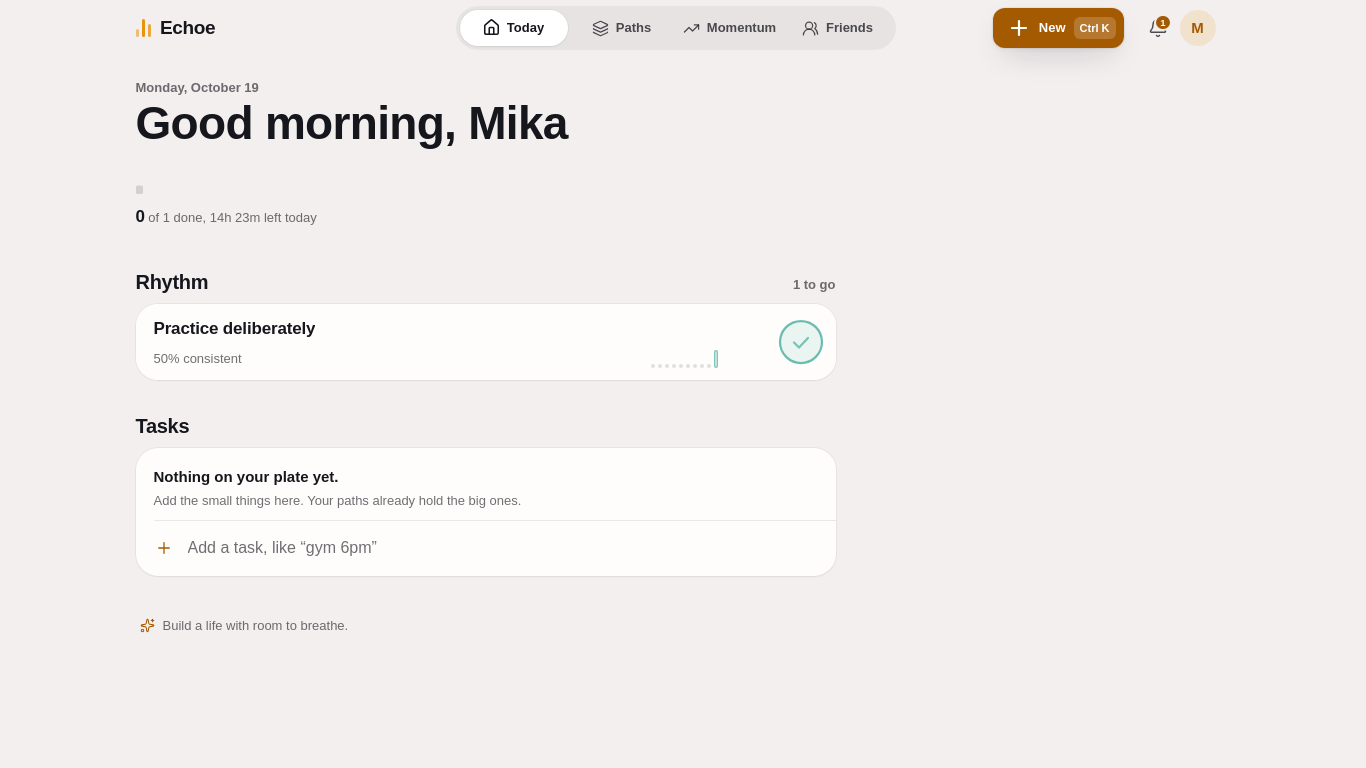
Test: Echoe app shell › shows a meaningful notification behind an actionable badge
Click the button named "notifications, 1 unread": (1158, 28) [1138, 8, 1178, 48]
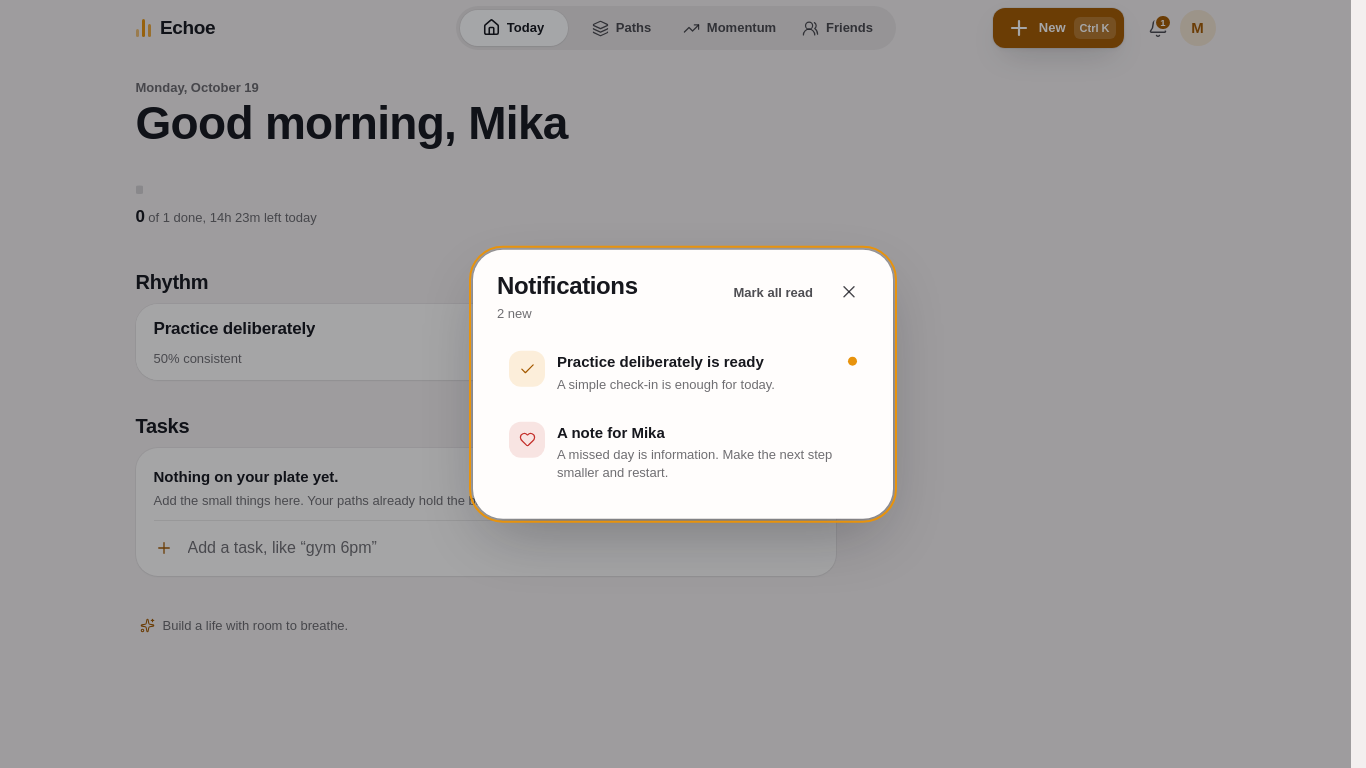
Check: the dialog "Notifications" is shown, box [473, 250, 893, 518]
Check: the text "Practice deliberately is ready" is shown, box [557, 353, 764, 370]
